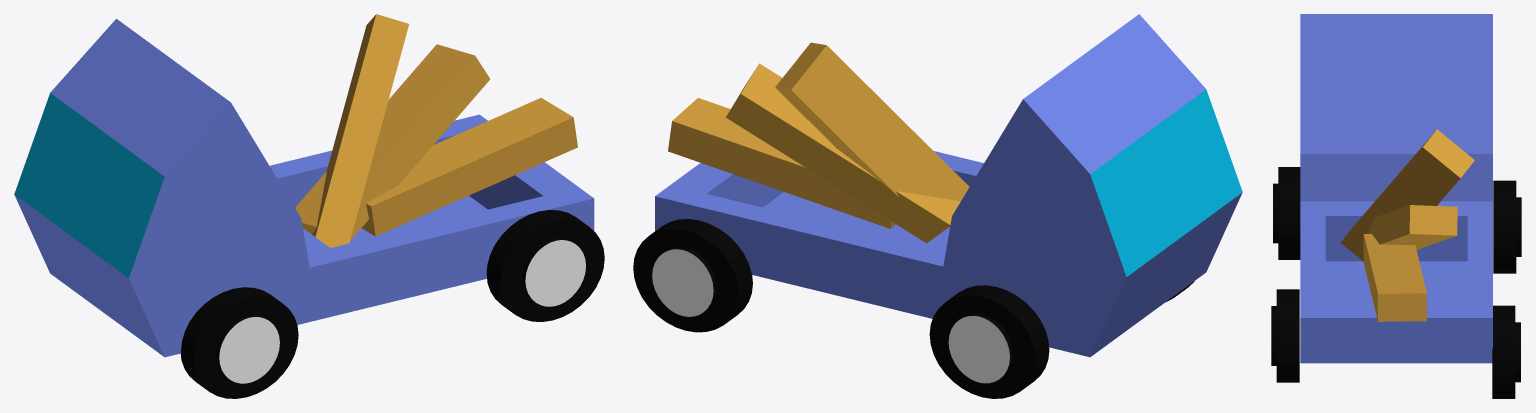
The model's file is TRUK INFRAS.fbx.
3 renders of one model, left to right at view 1: azimuth 30°, elevation 25°; view 2: azimuth 150°, elevation 25°; view 3: azimuth 270°, elevation 25°, orthographic. The views are drawn at different scales.
Visible parts, largest first — view 1: Plane.038, TRUK, Plane.044, Plane.042, Plane.039, Plane.045; view 2: Plane.038, Plane.045, Plane.040, Plane.041, Plane.044, TRUK; view 3: Plane.038, Plane.045, TRUK, Plane.044, Plane.042, Plane.040, Plane.041, Plane.039.
Boxes of the visible parts, box(x1,y1,x2,y2) form: Plane.038: box(14, 18, 594, 357); TRUK: box(362, 98, 577, 236); Plane.044: box(295, 44, 490, 240); Plane.042: box(486, 210, 604, 321); Plane.039: box(180, 287, 298, 398); Plane.045: box(312, 14, 409, 247); Plane.038: box(655, 14, 1242, 357); Plane.045: box(775, 42, 969, 201); Plane.040: box(929, 285, 1049, 398); Plane.041: box(633, 219, 752, 332); Plane.044: box(726, 63, 960, 243); TRUK: box(668, 98, 895, 228); Plane.038: box(1300, 14, 1492, 363); Plane.045: box(1340, 129, 1474, 261); TRUK: box(1363, 234, 1426, 321); Plane.044: box(1362, 205, 1457, 250); Plane.042: box(1271, 289, 1299, 382); Plane.040: box(1493, 180, 1521, 273); Plane.041: box(1492, 305, 1520, 398); Plane.039: box(1273, 167, 1300, 259).
Bounding box in the file's own units: 4621 × 2645 × 2407.
